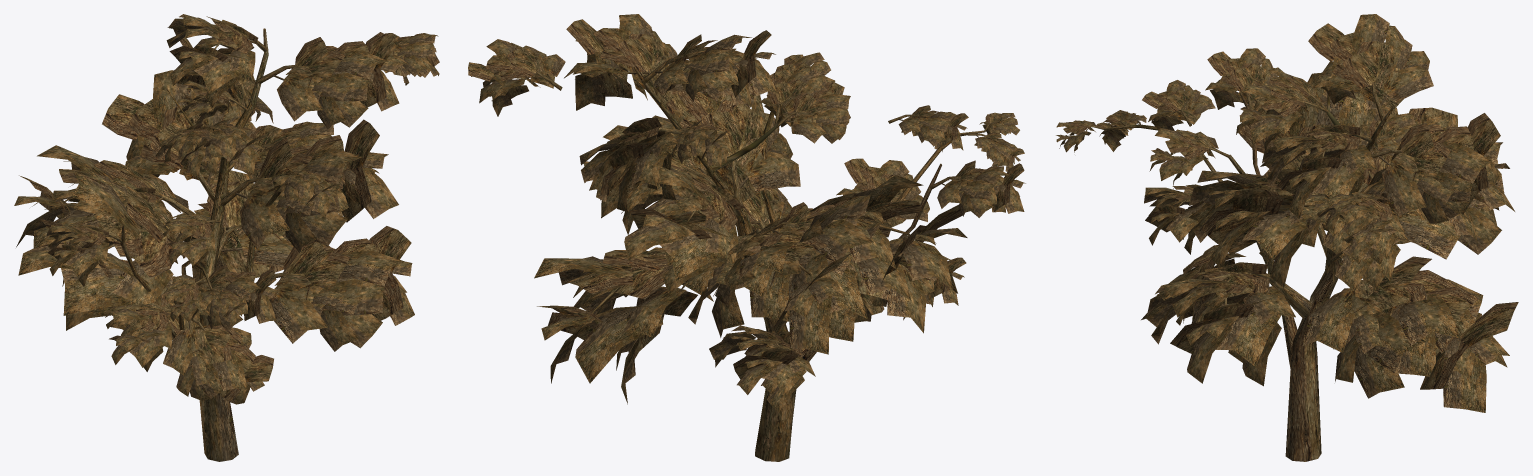
File: tree3.fbx
3 renders of one model, left to right at view 1: azimuth 30°, elevation 25°; view 2: azimuth 150°, elevation 25°; view 3: azimuth 270°, elevation 25°, orthographic. The views are drawn at different scales.
Visible parts, largest first — view 1: tree small joined; view 2: tree small joined; view 3: tree small joined.
Part boxes in pixels (bbox=[...]): tree small joined: bbox=[14, 14, 439, 461]; tree small joined: bbox=[468, 14, 1025, 461]; tree small joined: bbox=[1056, 14, 1518, 461].
Bounding box in the file's own units: 498 × 440 × 420.
2 materials, 2 textured.
